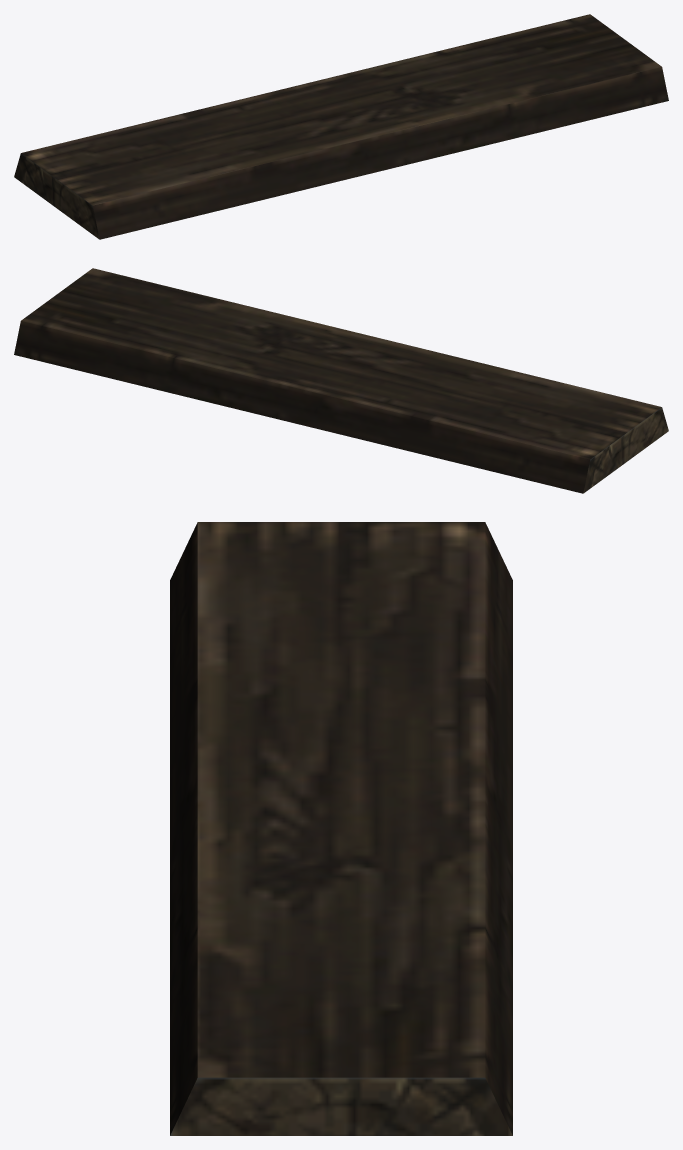
File: B_mutiao002.fbx
3 views of the same model, one above another, from view 1: azimuth 30°, elevation 25°; view 2: azimuth 150°, elevation 25°; view 3: azimuth 270°, elevation 25° (orthographic). The views are drawn at different scales.
Parts seen in each view (by area): view 1: B_mutiao002; view 2: B_mutiao002; view 3: B_mutiao002.
Boxes of the visible parts, bbox=[...] form: B_mutiao002: bbox=[14, 14, 668, 239]; B_mutiao002: bbox=[14, 268, 668, 493]; B_mutiao002: bbox=[170, 522, 512, 1135].
Bounding box in the file's own units: 153 × 7.47 × 39.92.
